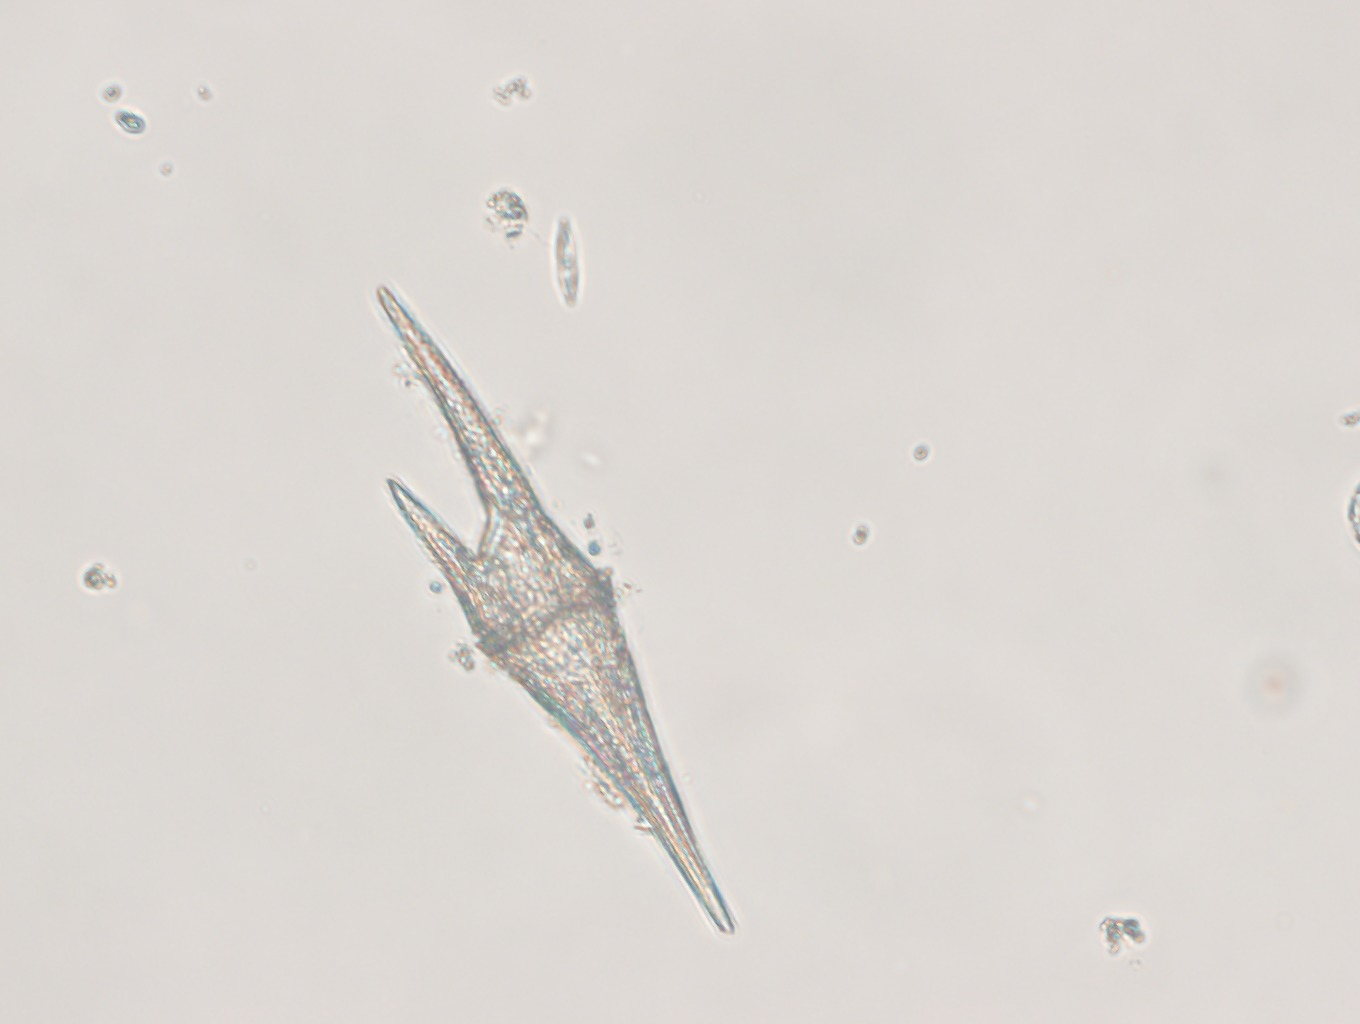ceratium furca: (371, 280, 738, 938)
navicula: (552, 217, 582, 310)
